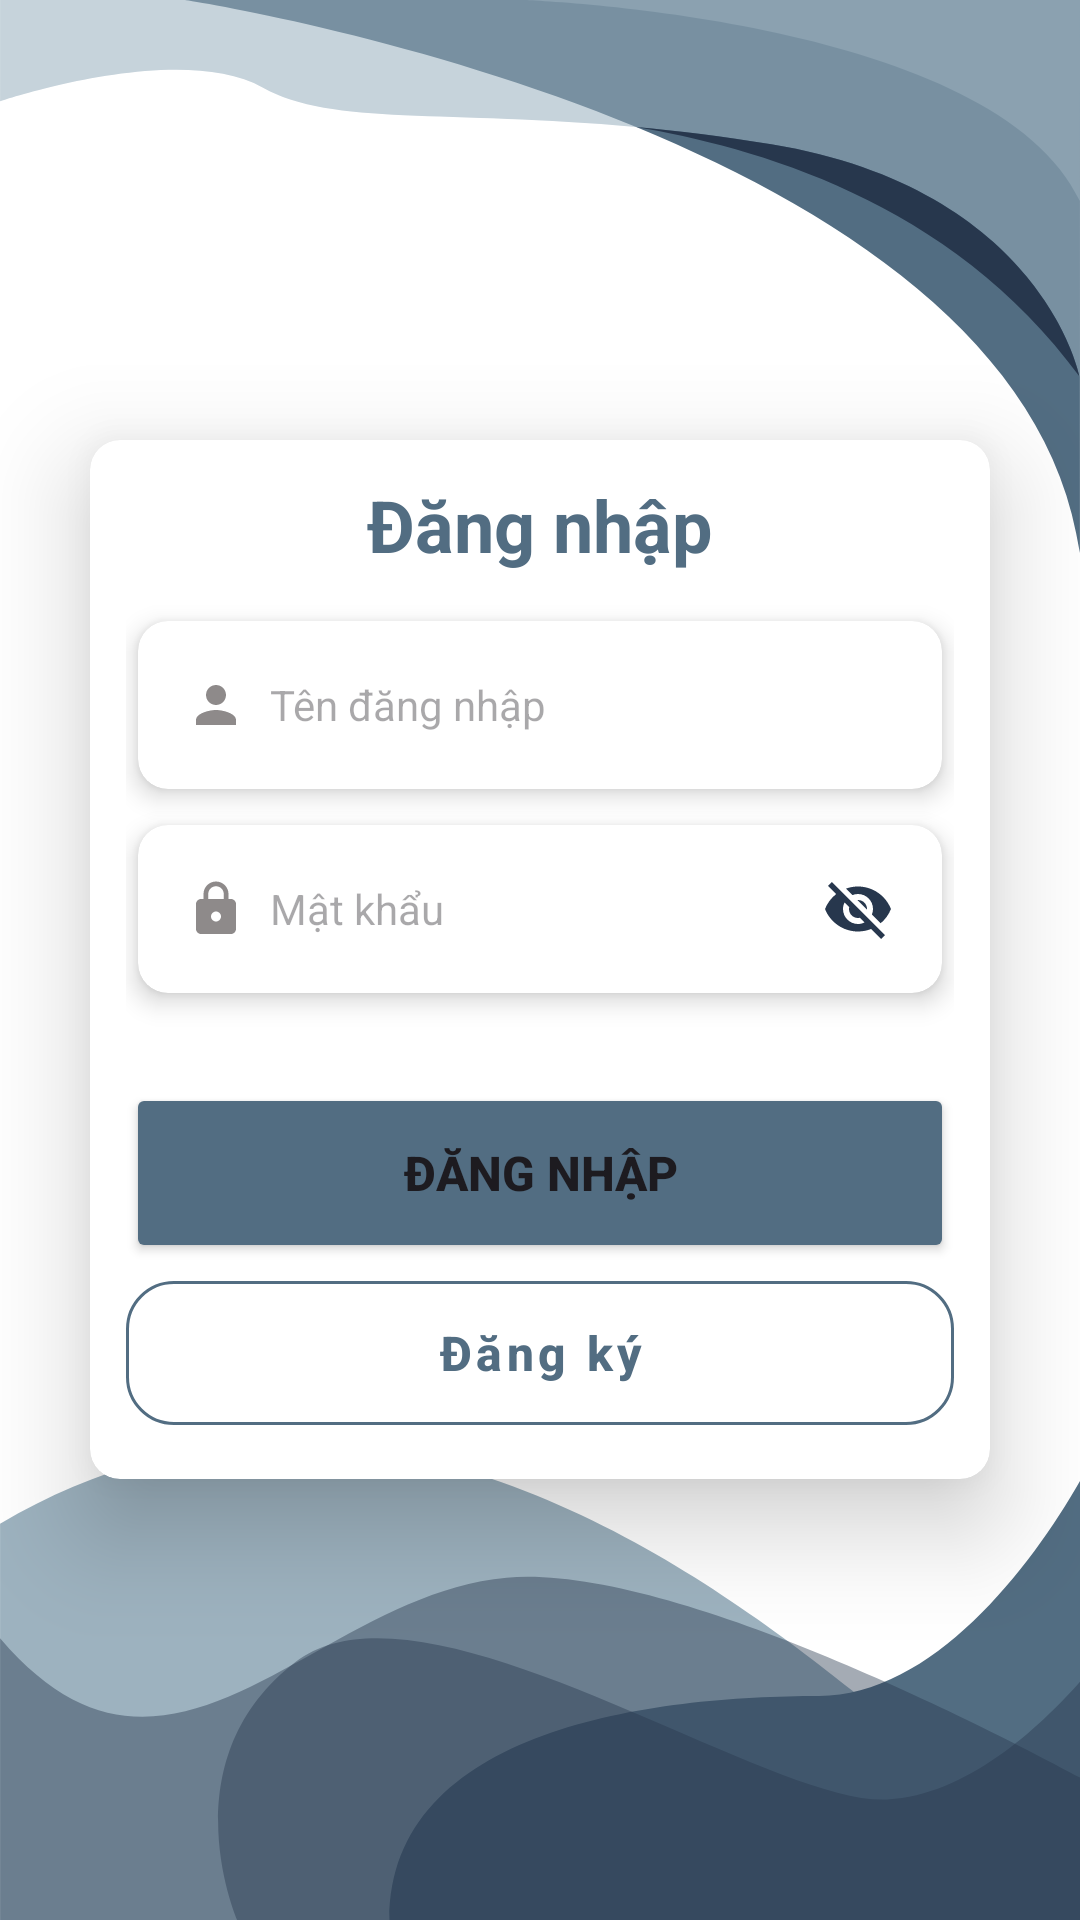

Icons on this 1080x1920 Android screen, each with the point to tap as (x=x, y=y):
visibility off: (x=858, y=910)
